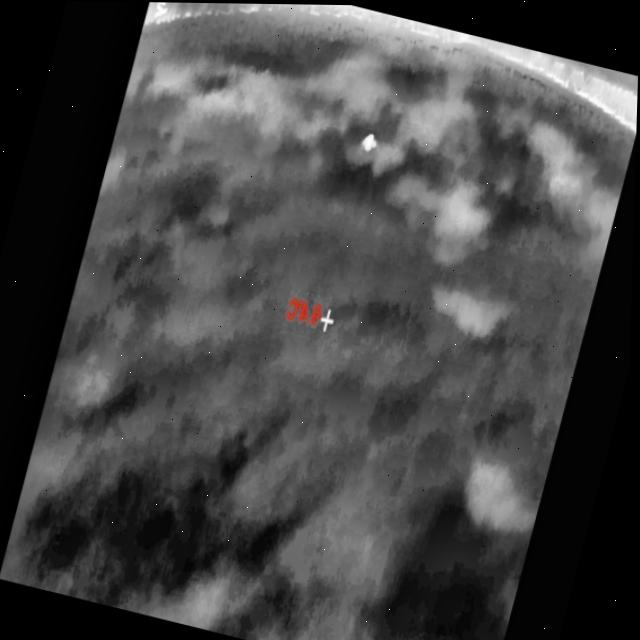drone: (359, 126, 380, 154)
